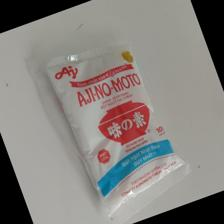Ajinomoto: (45, 45, 187, 218)
